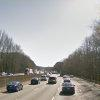Car: (58, 76, 76, 96)
